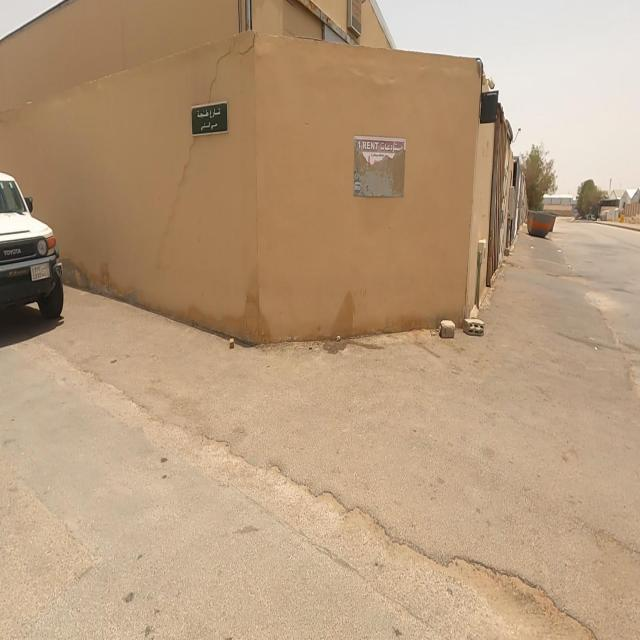debris: (314, 84, 452, 263)
